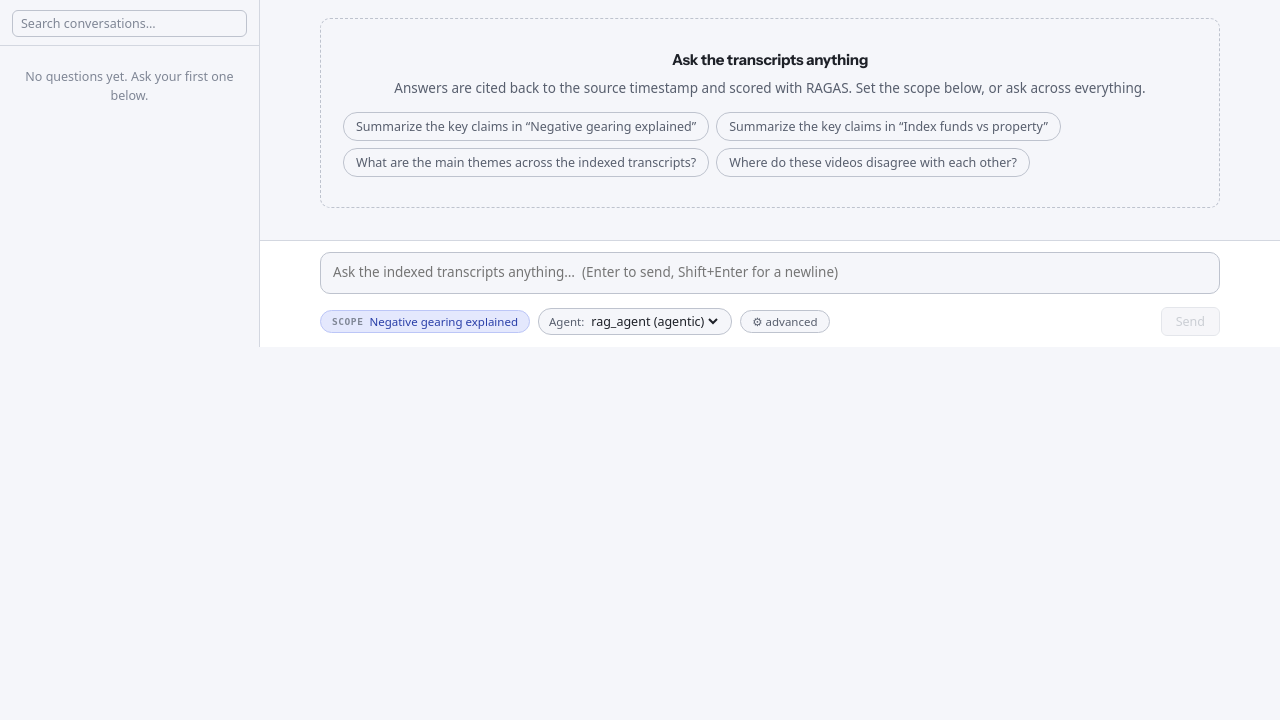
Test: ChatView pending scope › back-fills the channel once the corpus arrives
The width and height of the screenshot is (1280, 720).
Click the button with aria-label "Retrieval scope:": coordinates (425, 322) [320, 310, 530, 333]
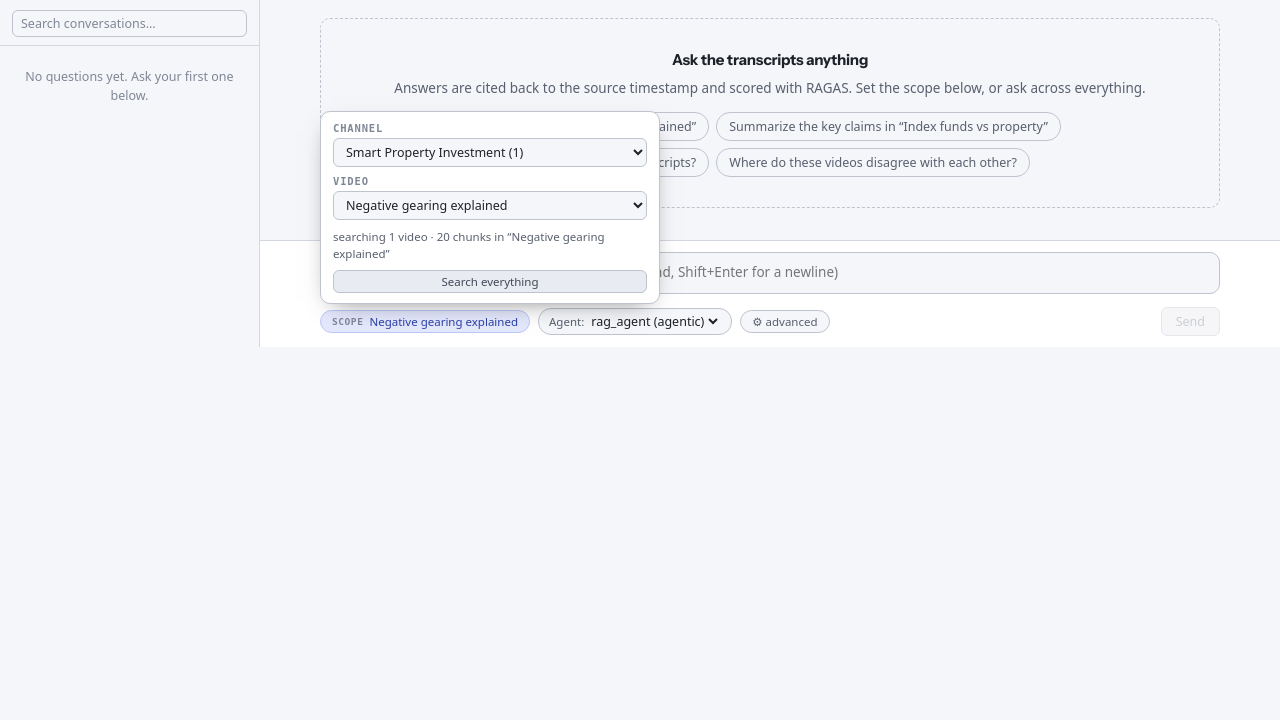
Result: the dropdown named "Channel scope" shows "Smart Property Investment (1)" at [333, 138, 647, 166]
